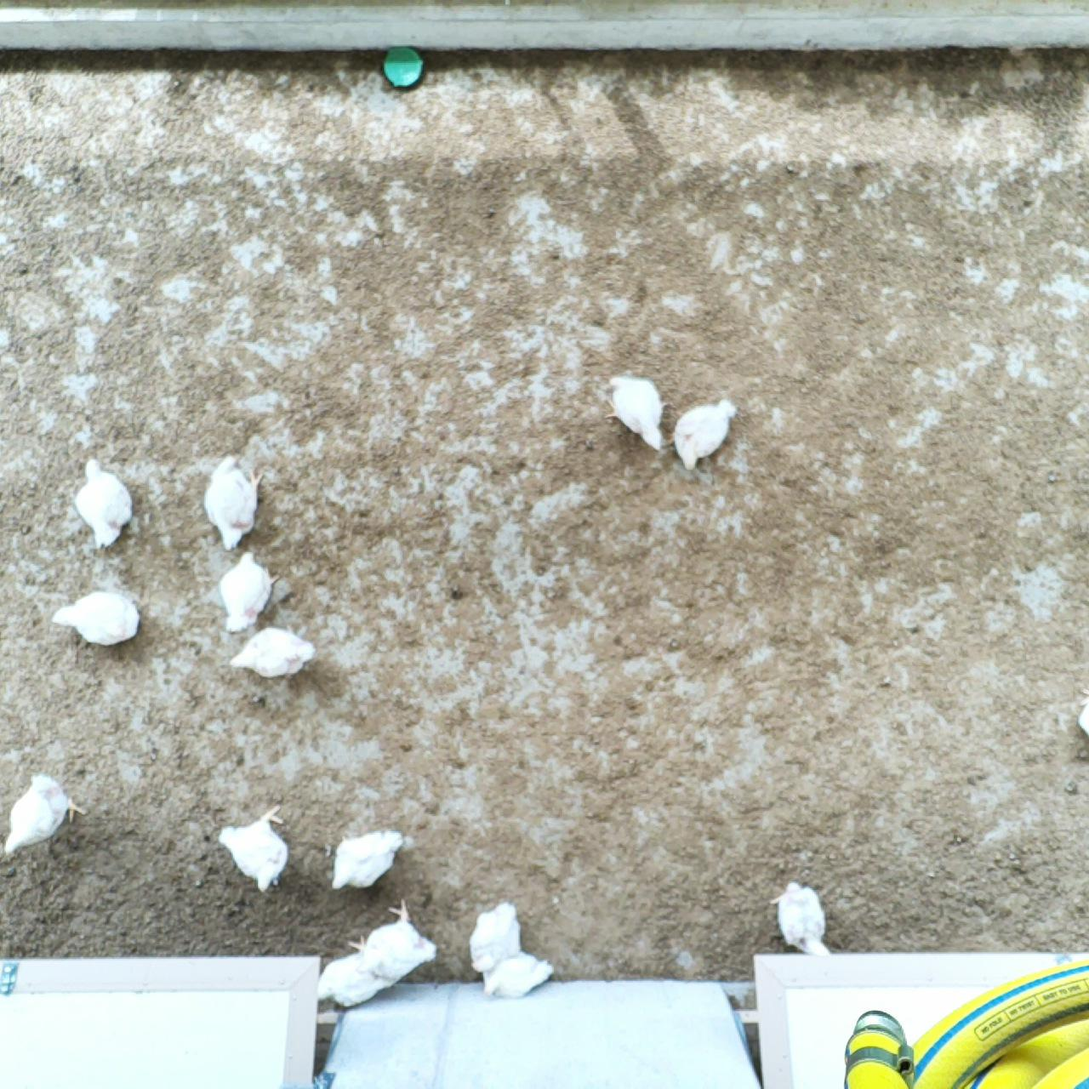chicken: (347, 900, 439, 981), (220, 800, 295, 895), (203, 450, 270, 555), (3, 774, 87, 856), (304, 944, 399, 1010), (666, 395, 740, 476), (215, 548, 282, 637), (74, 456, 134, 552), (51, 589, 143, 649), (770, 879, 835, 962), (602, 371, 667, 454), (329, 827, 408, 895), (229, 625, 319, 679), (467, 899, 521, 975), (478, 952, 557, 1001)
